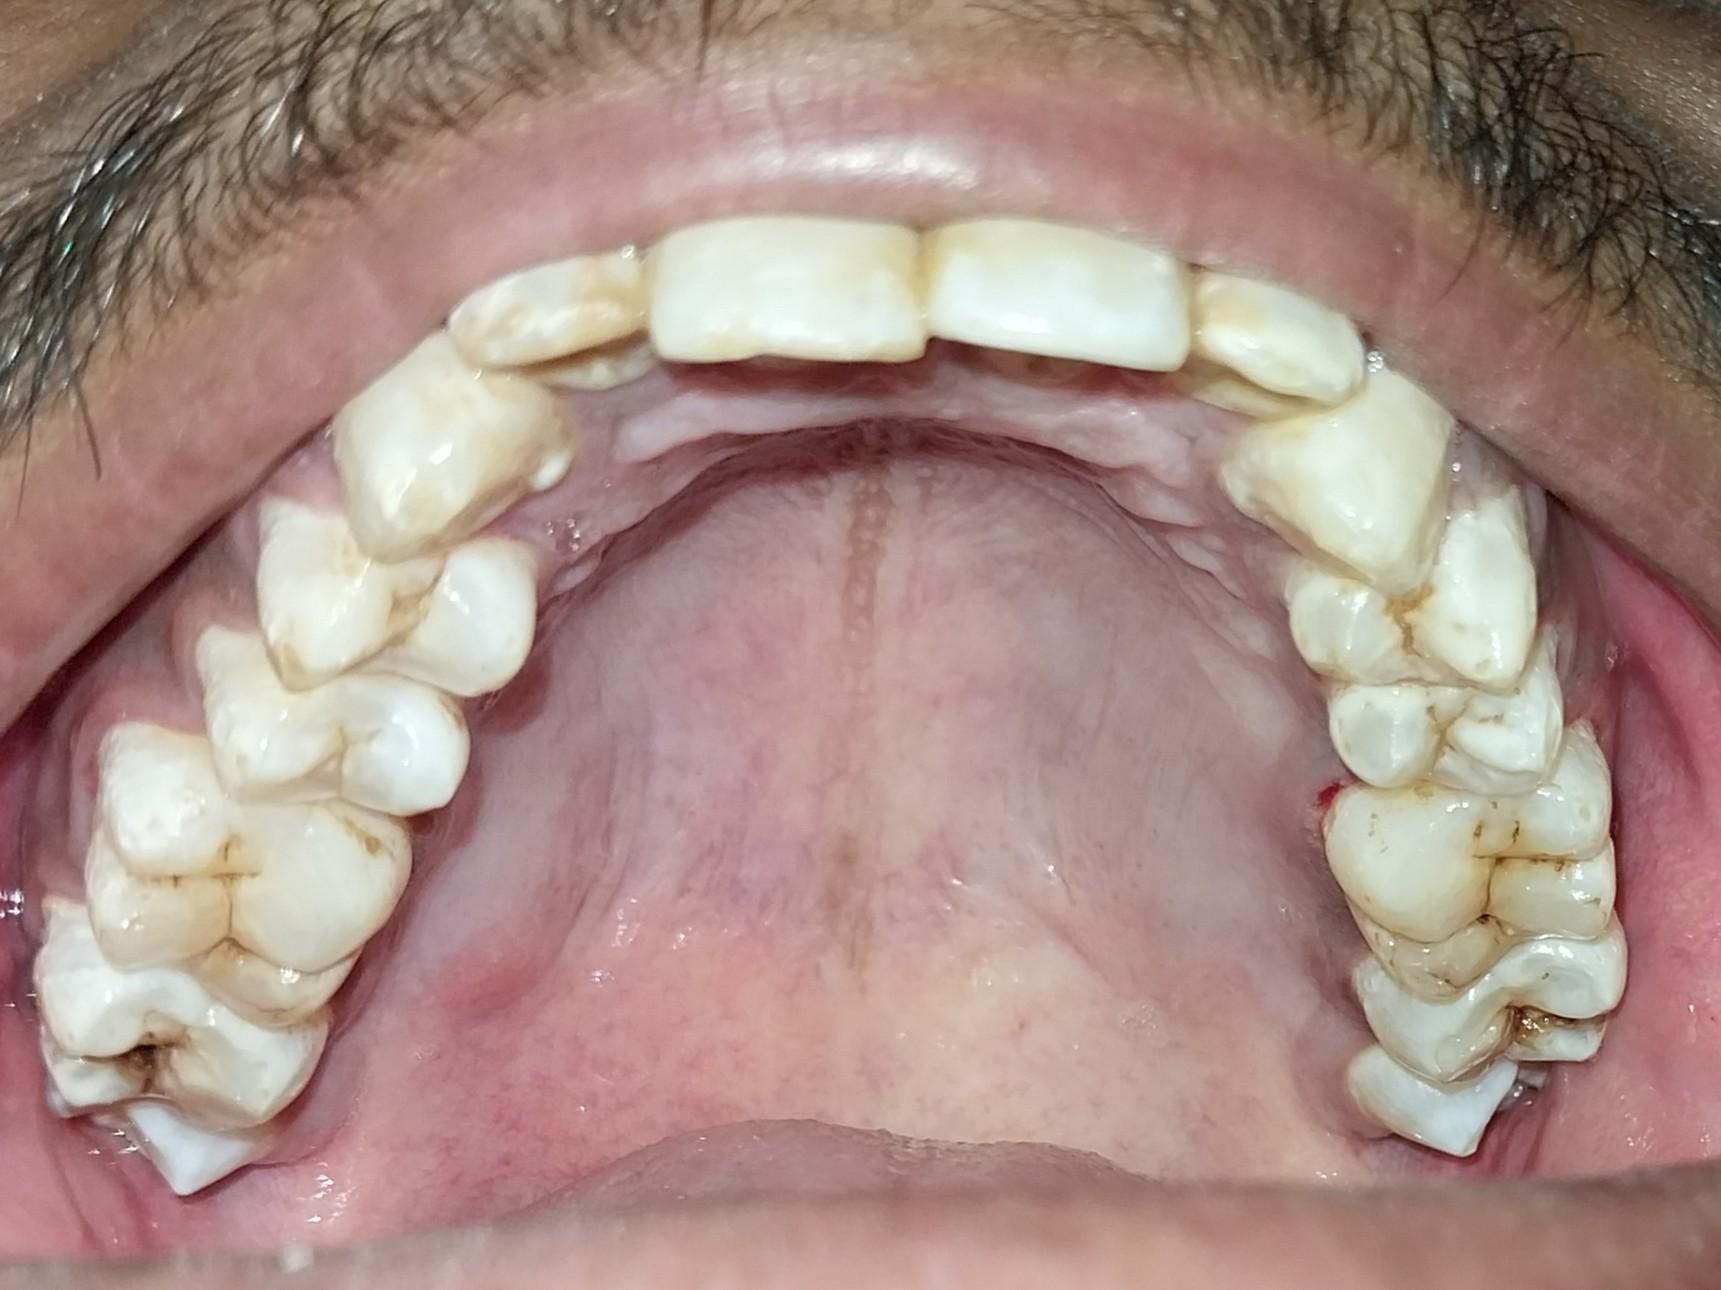D: (93, 753, 408, 1029), (21, 929, 332, 1199), (1308, 760, 1608, 992), (1336, 927, 1627, 1077)
